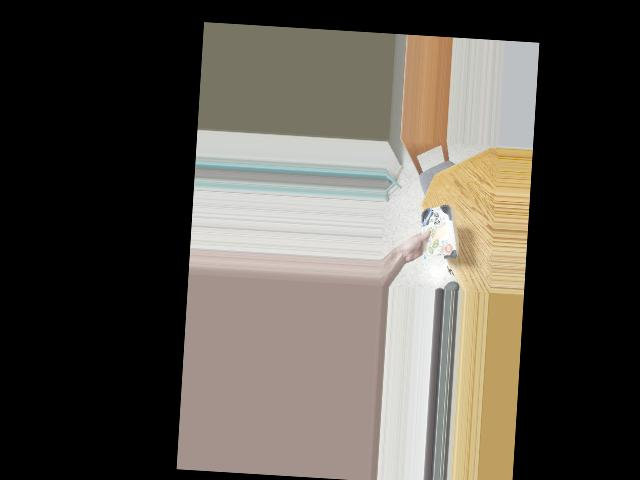cheese: (414, 209, 459, 251)
